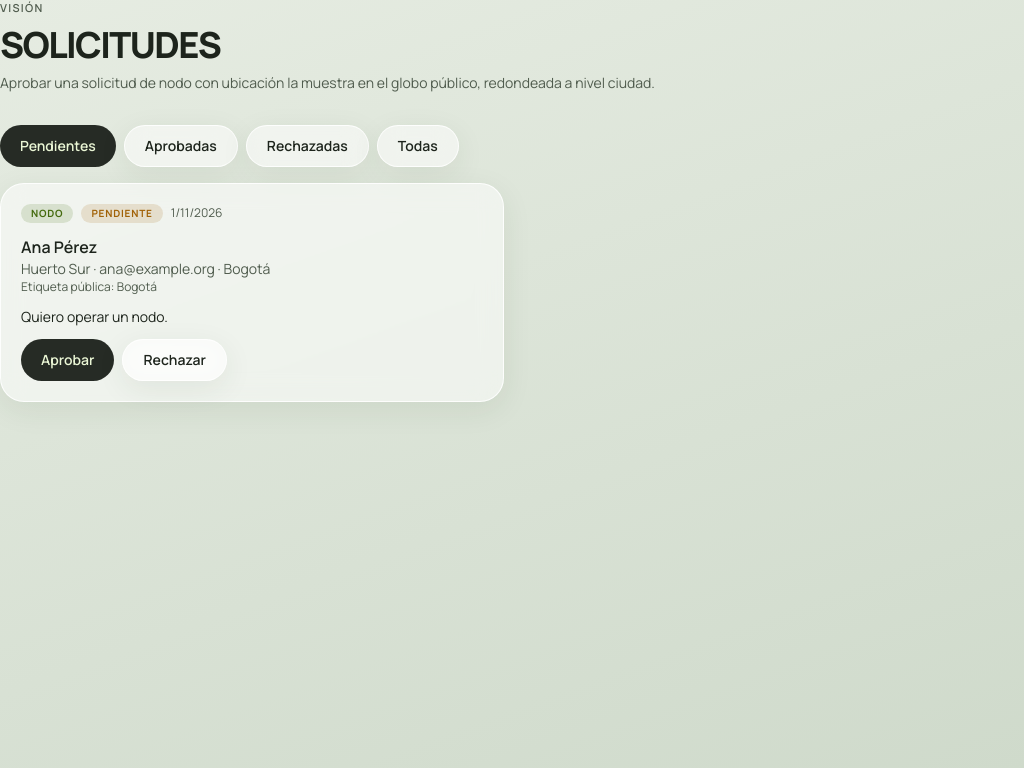
Test: rechazar exige nota
expect the heading "Ana Pérez" is shown: met, box [21,236,97,258]
Click the button "Rechazar" at (175, 360), box [122,338,227,380]
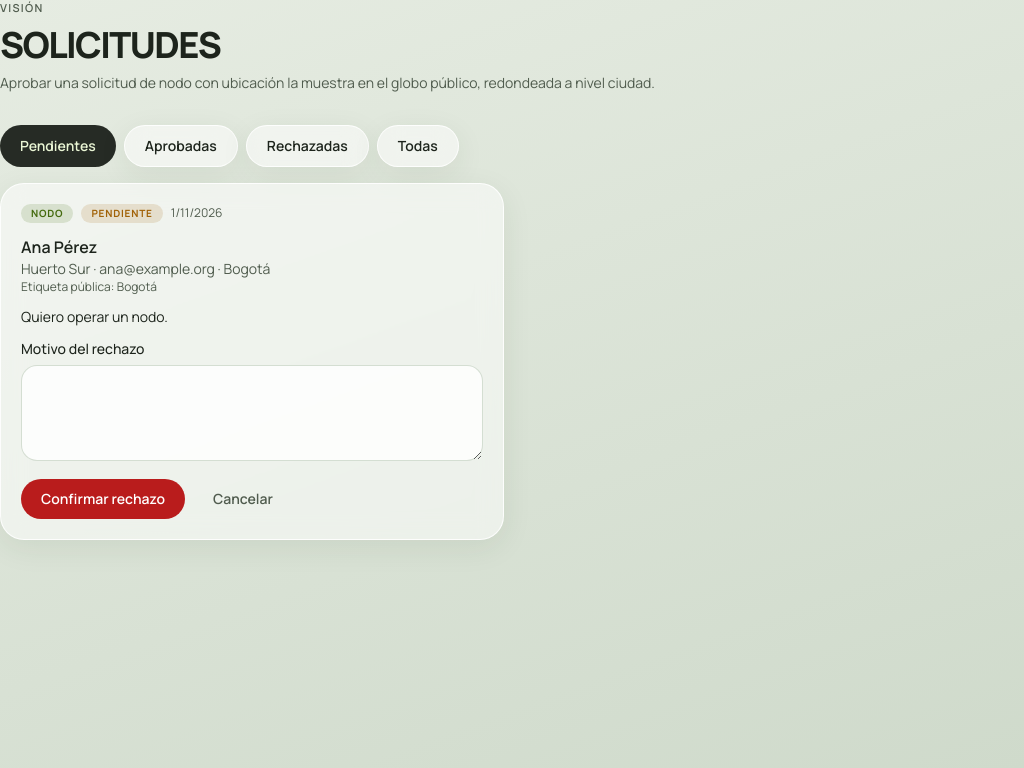
Click the button "Confirmar rechazo" at (103, 498), box [21,478,185,518]
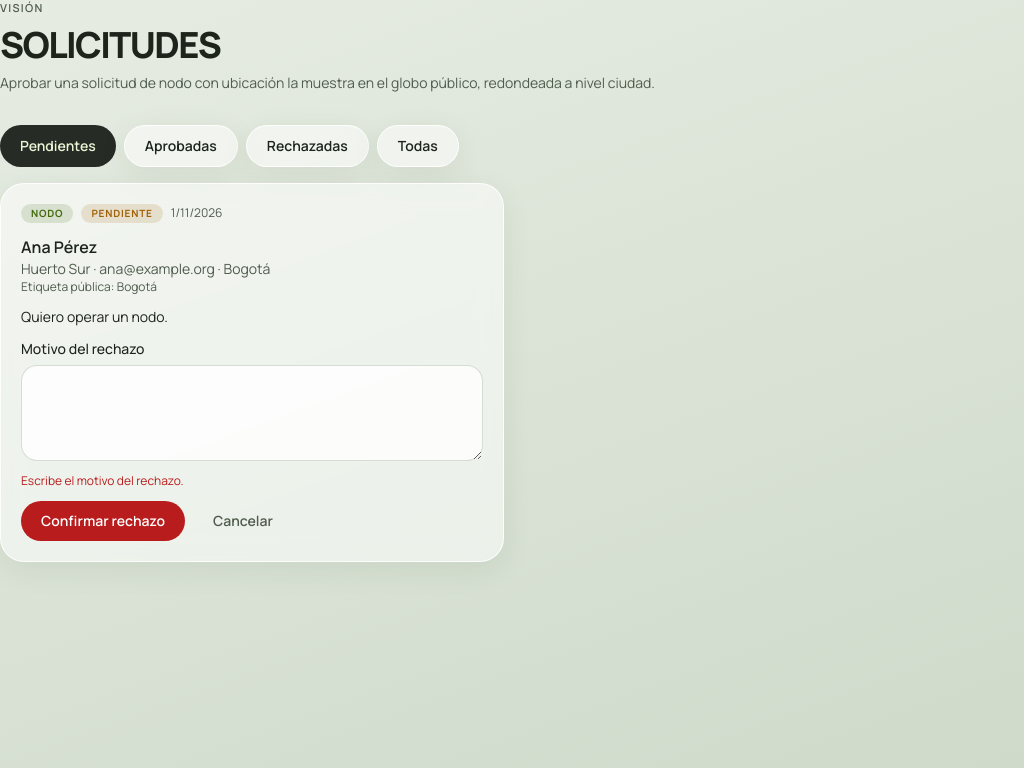
expect the text "Escribe el motivo del rechazo." is shown: met, box [21,472,184,488]
Type "Fuera de alcance" into the text box labelled "Motivo del rechazo" at (252, 412), box [21,364,483,460]
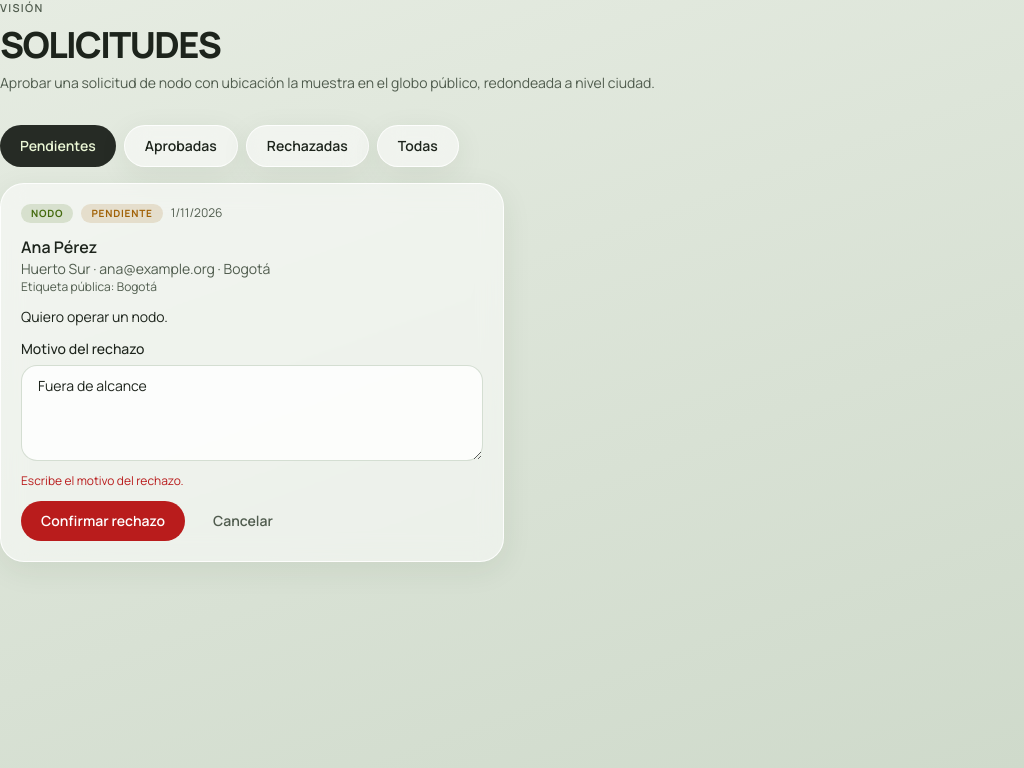
Click the button "Confirmar rechazo" at (103, 520), box [21,500,185,540]
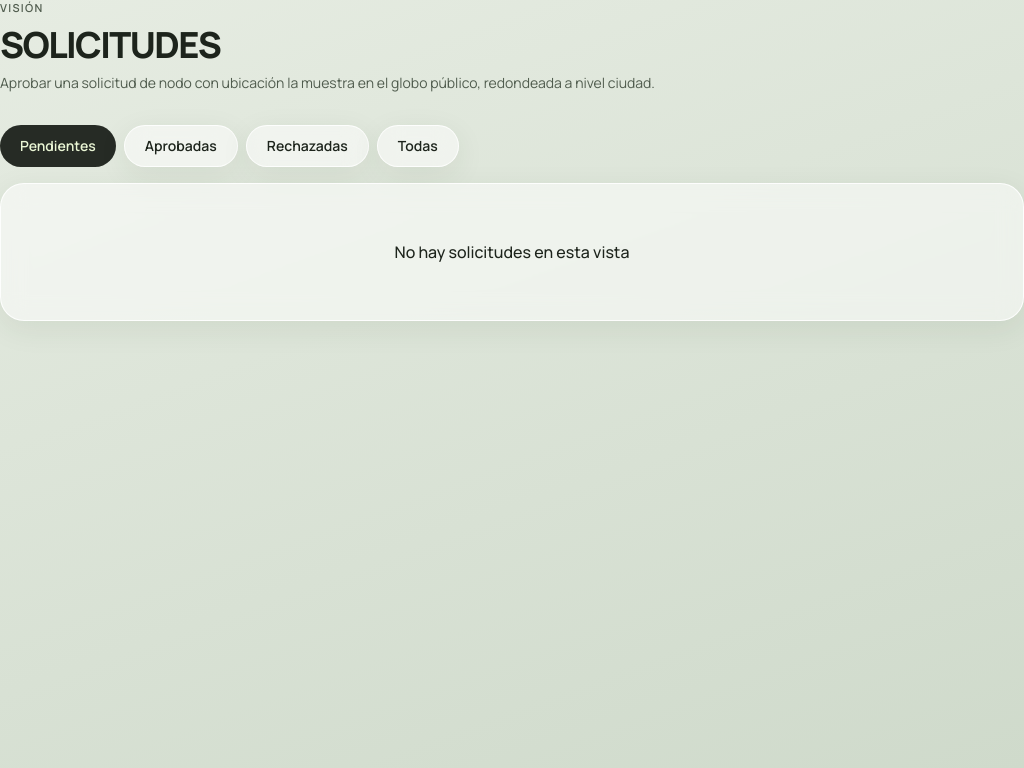
expect the heading "Ana Pérez" is gone: met
